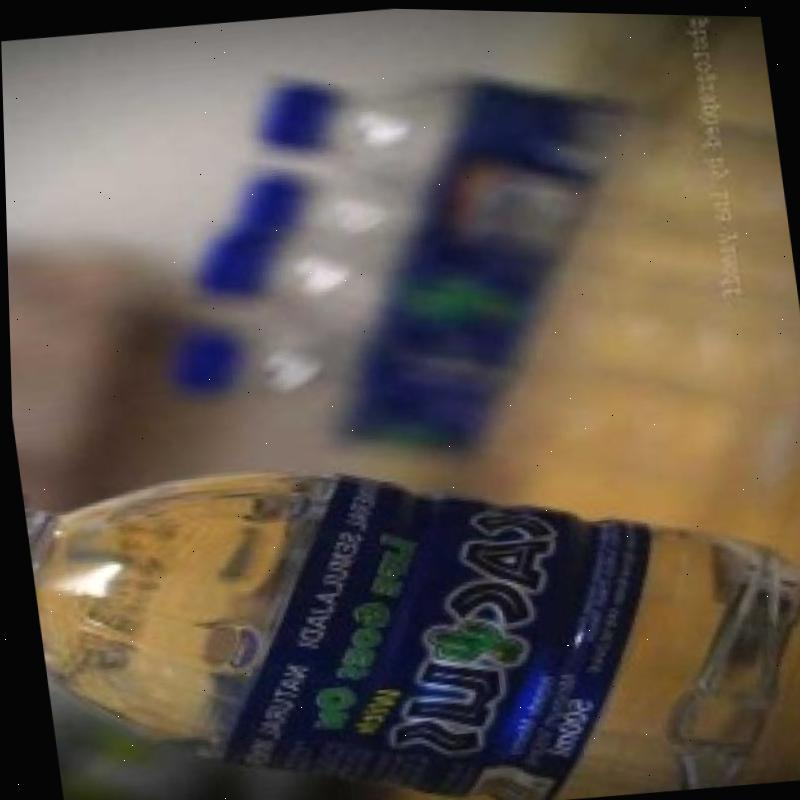botella: (15, 398, 800, 800), (186, 165, 800, 475), (155, 254, 800, 549), (240, 17, 796, 340), (227, 145, 423, 255)
